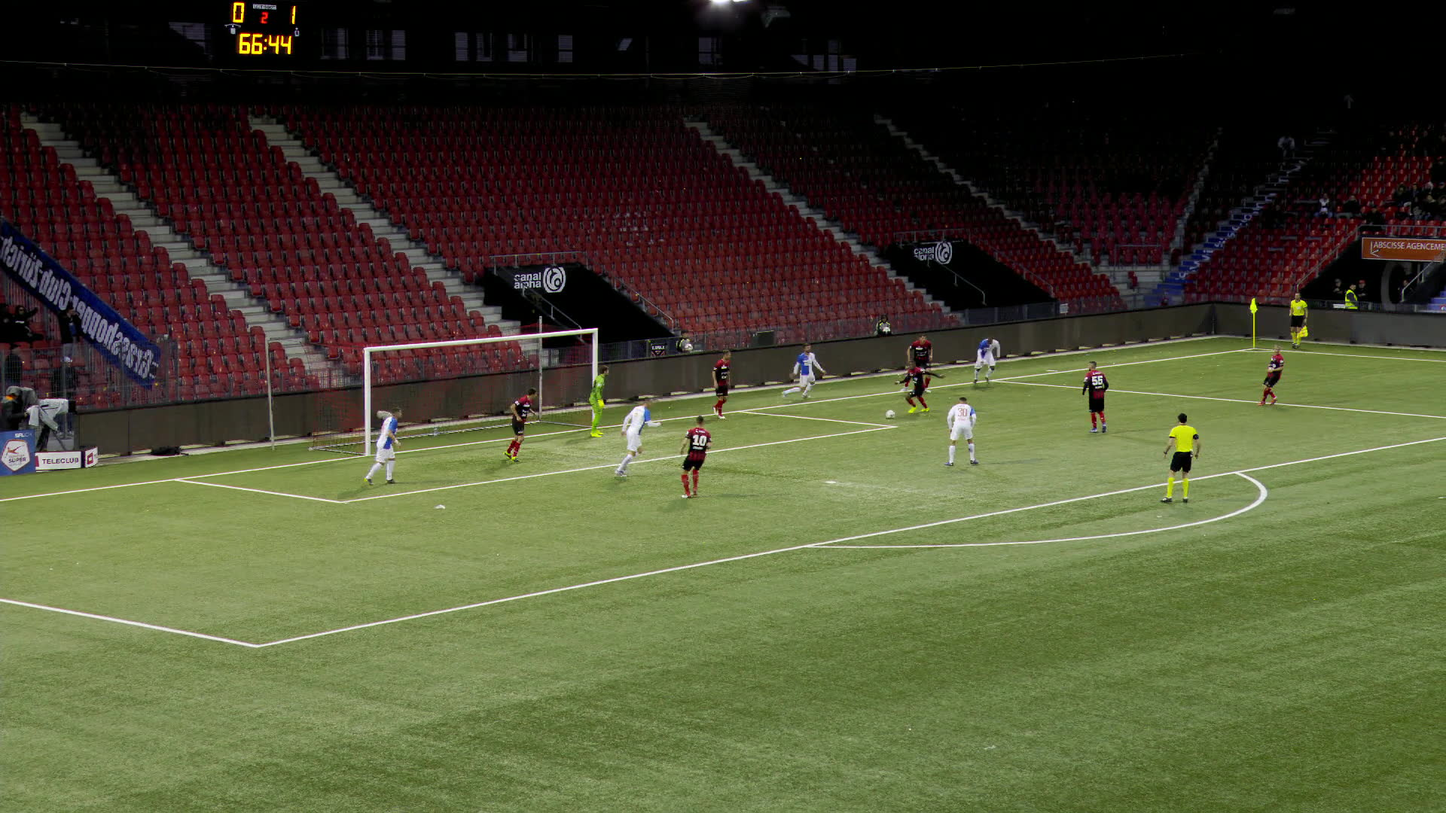ball: (885, 409, 894, 417)
player: (613, 396, 663, 477), (365, 406, 401, 485), (679, 415, 711, 498), (894, 358, 943, 410), (503, 388, 537, 461), (781, 343, 825, 398), (944, 396, 978, 465), (1081, 361, 1108, 431), (901, 333, 932, 391), (1258, 344, 1284, 405), (588, 364, 609, 436), (972, 336, 999, 384), (712, 350, 731, 418)
referee: (1161, 414, 1201, 501), (1289, 292, 1307, 348)
